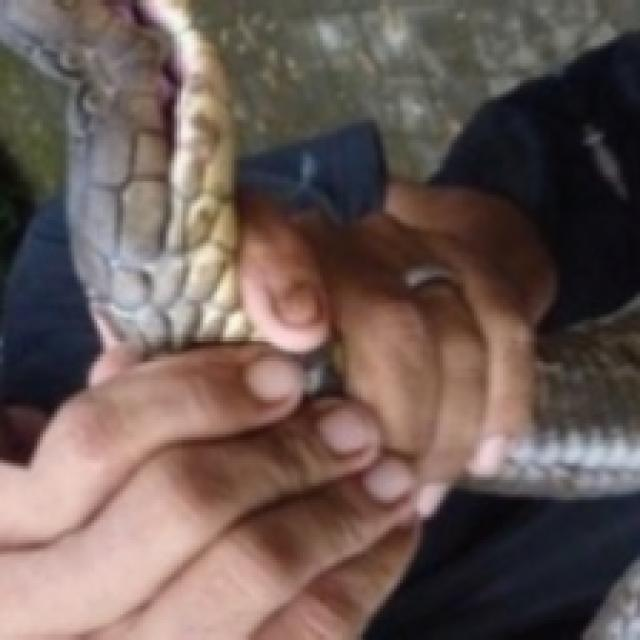king cobra: (0, 0, 249, 349)
